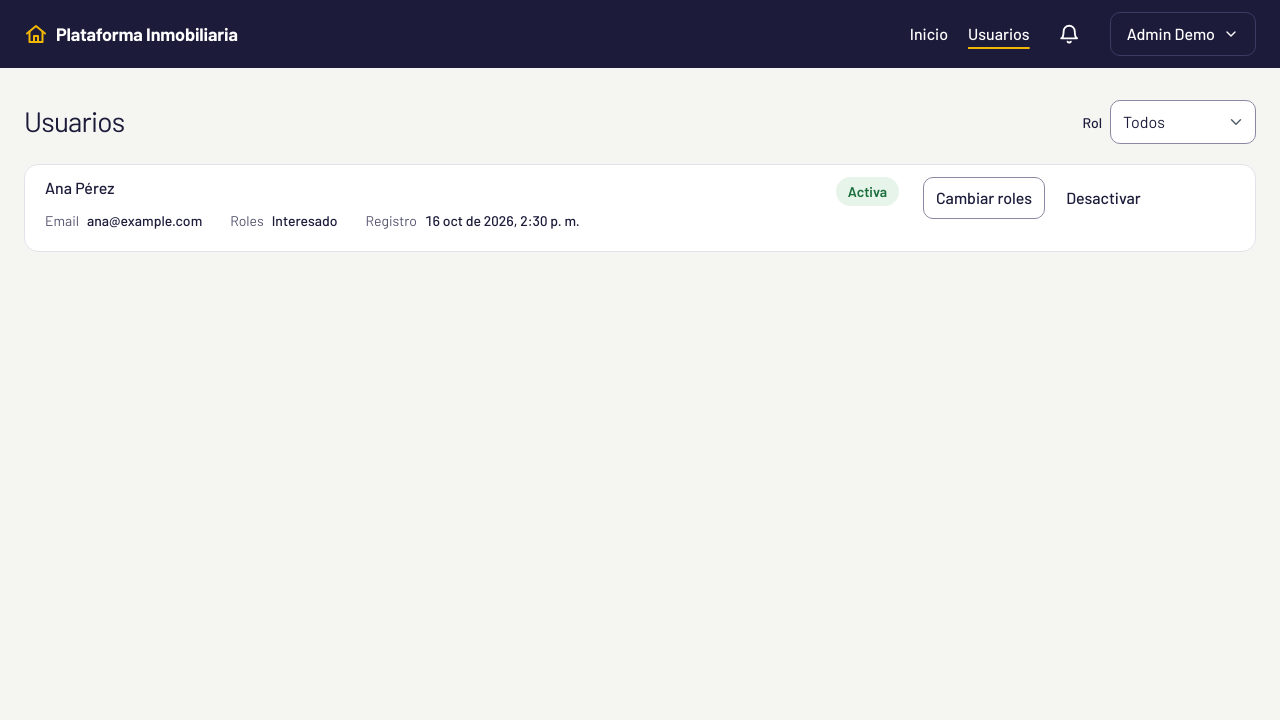
Test: AdminUsersPage › does not save without changes nor without any role
Click the button with aria-label "Cambiar roles: Ana Pérez" at (984, 198), box [923,177,1045,219]
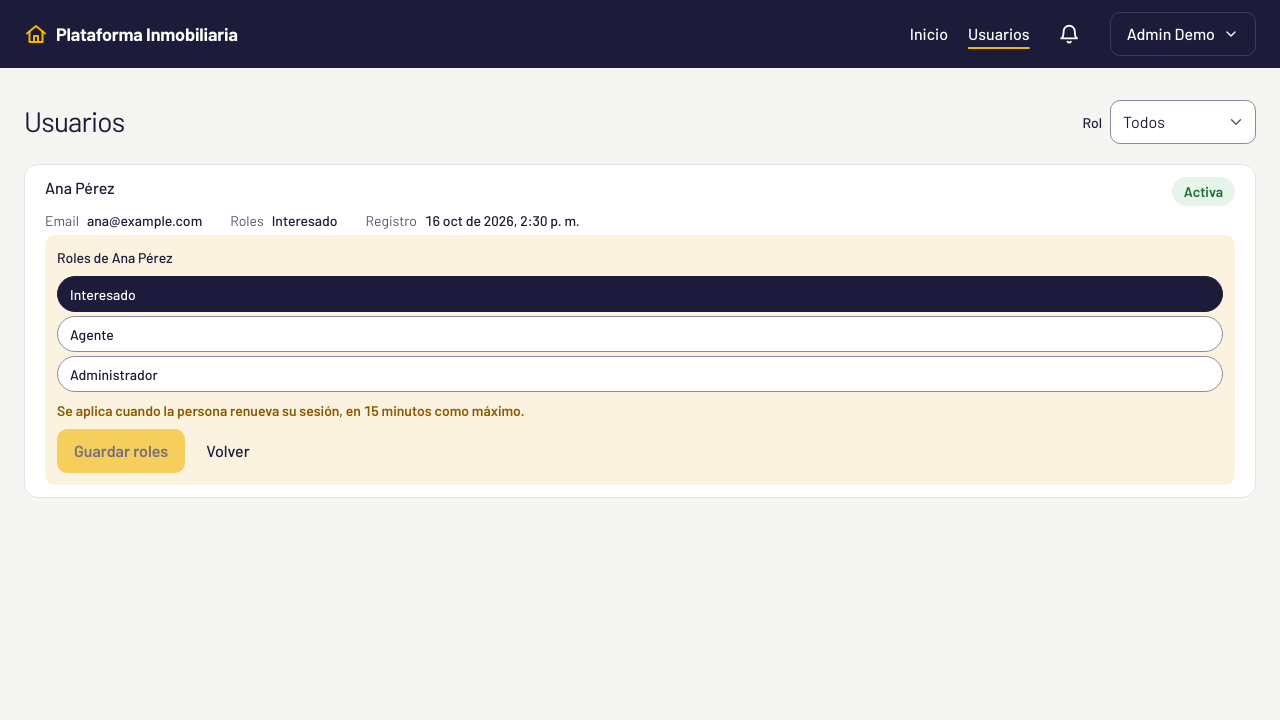
Expected: the button "Guardar roles" is disabled, [57,429,185,473]
Click the checkbox labelled "Interesado" at (103, 294), box [57,276,1223,312]
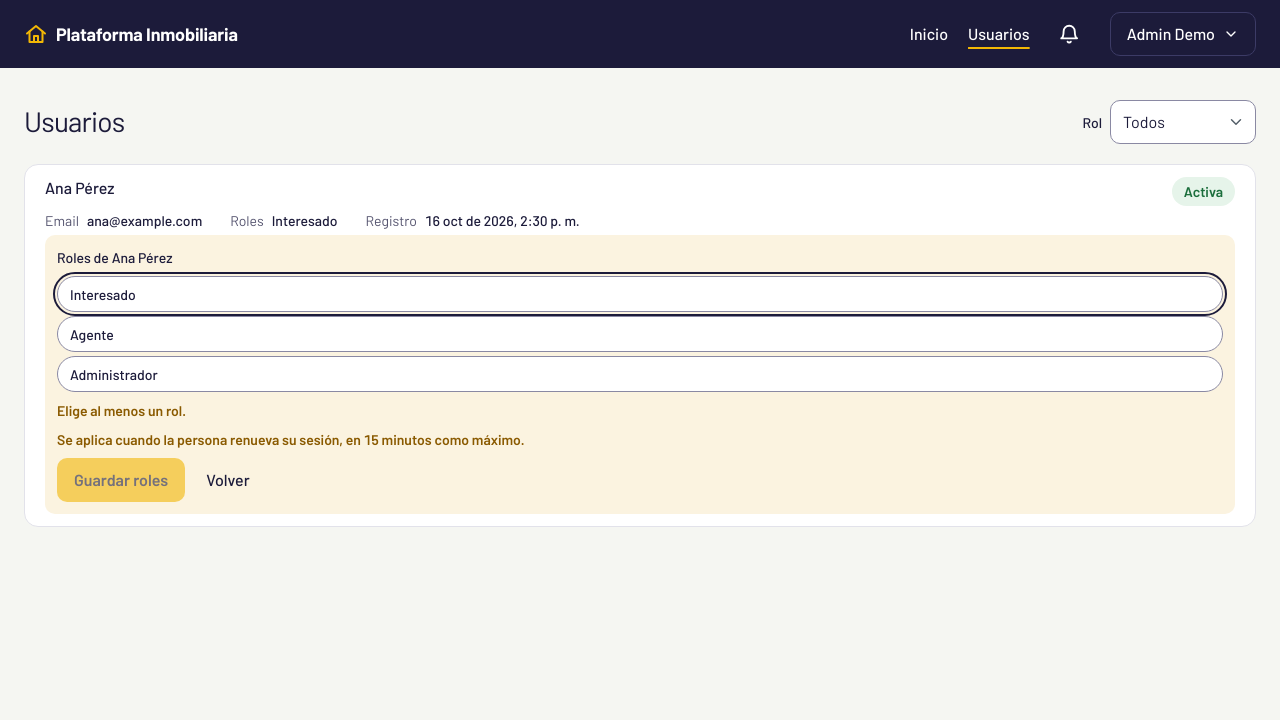
Expected: the button "Guardar roles" is disabled, [57,458,185,502]
Expected: the text "Elige al menos un rol." is shown, [57,402,186,419]
